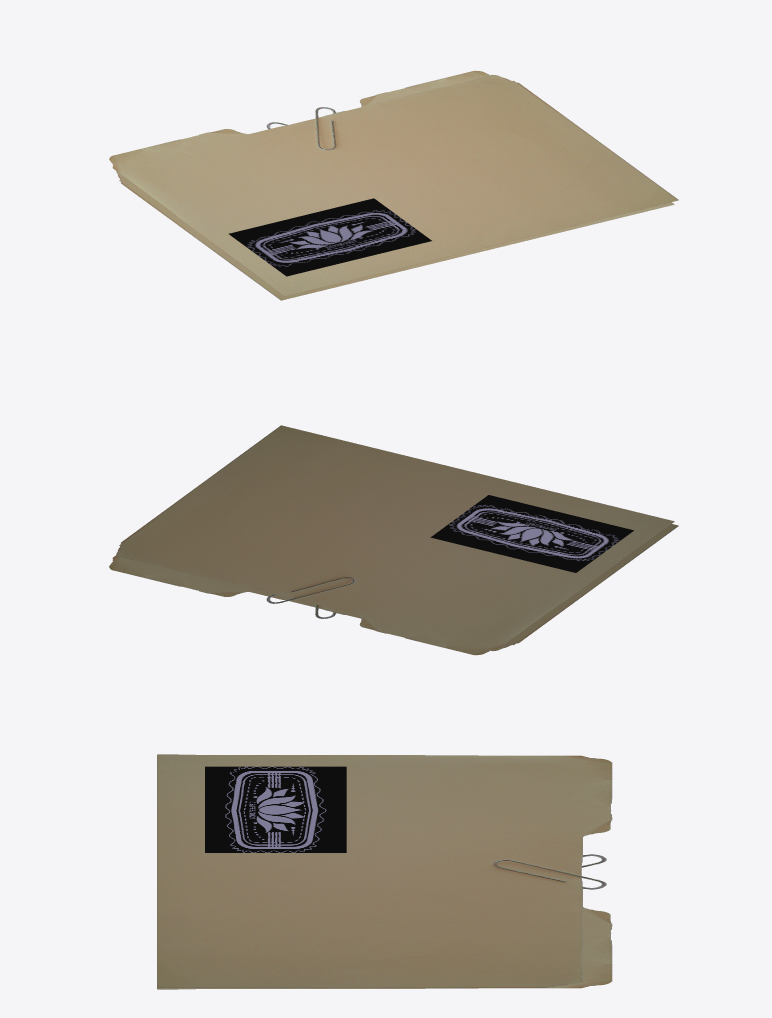
Rendered from seal3.obj.
3 views of the same model, one above another, from view 1: azimuth 30°, elevation 25°; view 2: azimuth 150°, elevation 25°; view 3: azimuth 270°, elevation 25° (orthographic). The views are drawn at different scales.
Visible parts, largest first — view 1: Plane01, Seal3, Duplicate00; view 2: Plane01, Seal3, Duplicate00; view 3: Plane01, Seal3, Duplicate00.
Part boxes in pixels (x1,y1,x2,y2): Plane01: (109,74,678,296); Seal3: (228,198,431,276); Duplicate00: (116,70,674,300); Plane01: (116,425,674,655); Seal3: (430,495,633,572); Duplicate00: (109,524,678,651); Plane01: (157,754,612,987); Seal3: (205,766,346,852); Duplicate00: (157,854,612,989).
Bounding box in the file's own units: 5.05 × 0.0392 × 6.12.
